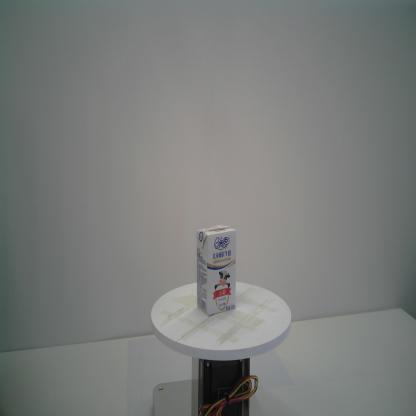Milk: (196, 224, 236, 316)
